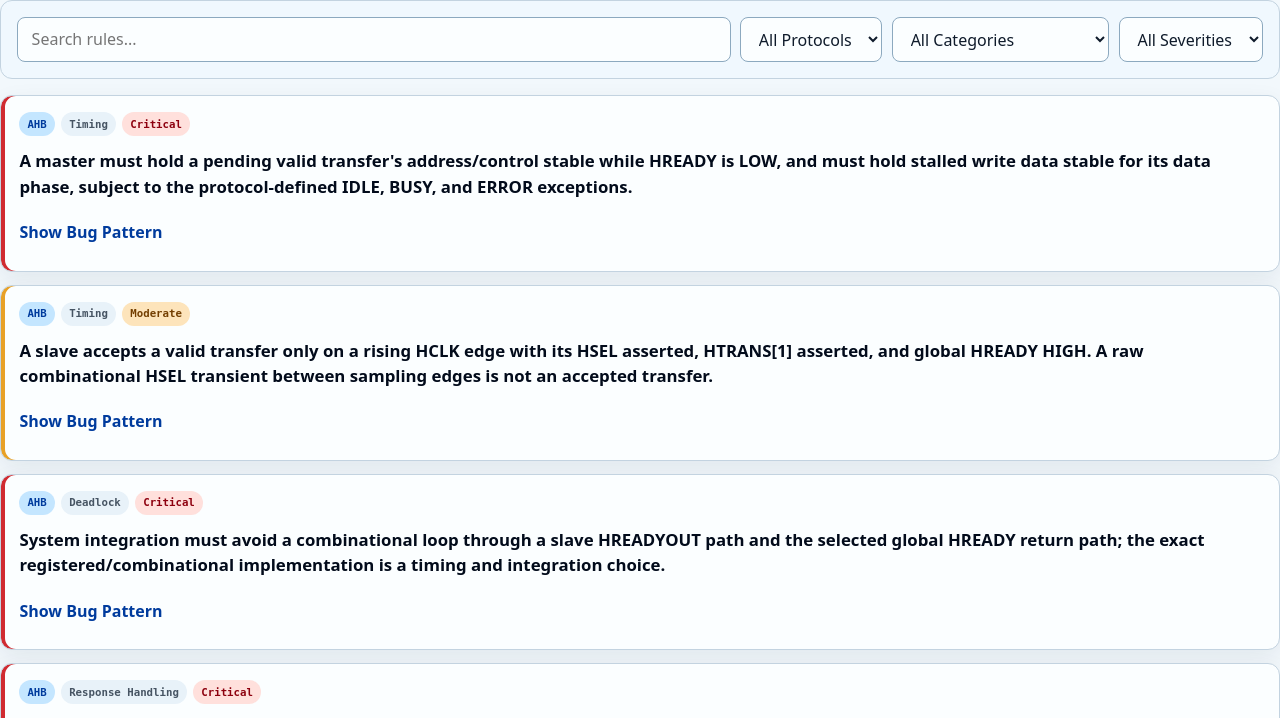
SpecRuleExplorer Component › filters rules by text search
In the field with placeholder "Search rules...": (374, 40) [17, 17, 731, 62], type "WLAST"
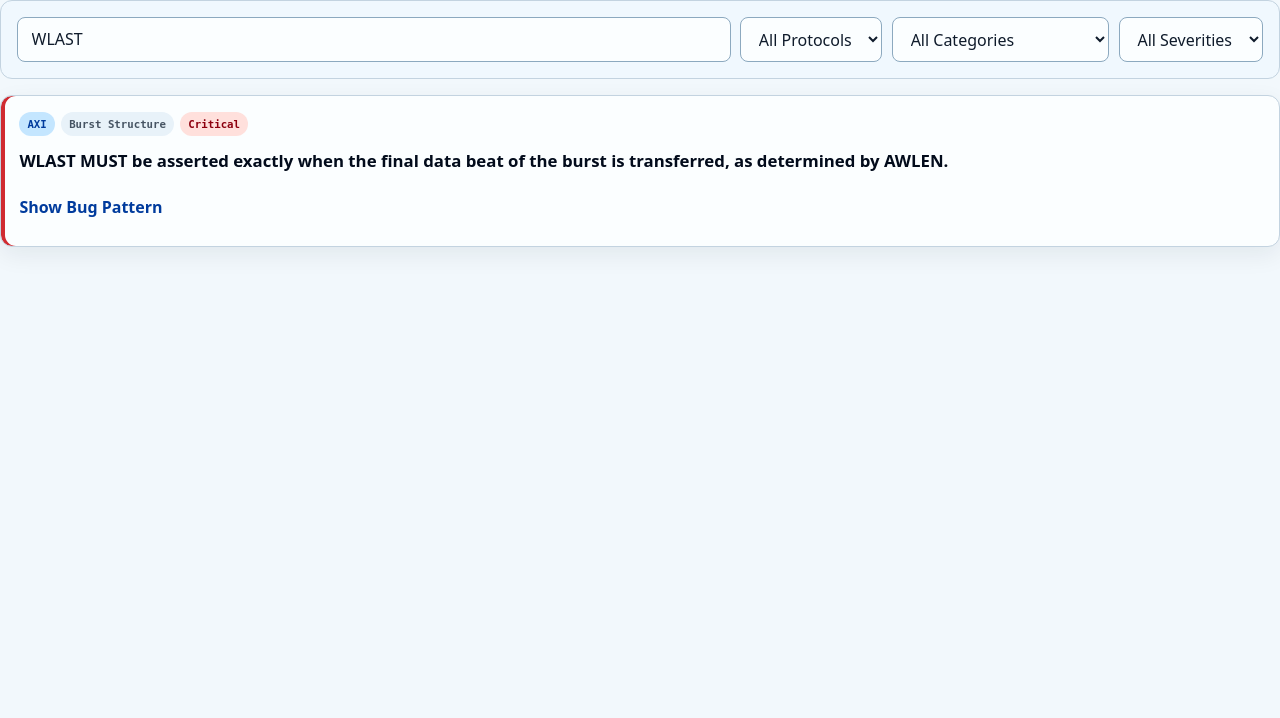
Expected: the text "WLAST MUST be asserted exactly" is shown, [19, 149, 948, 172]
Now the text "pending valid transfer's address/control stable" is gone
